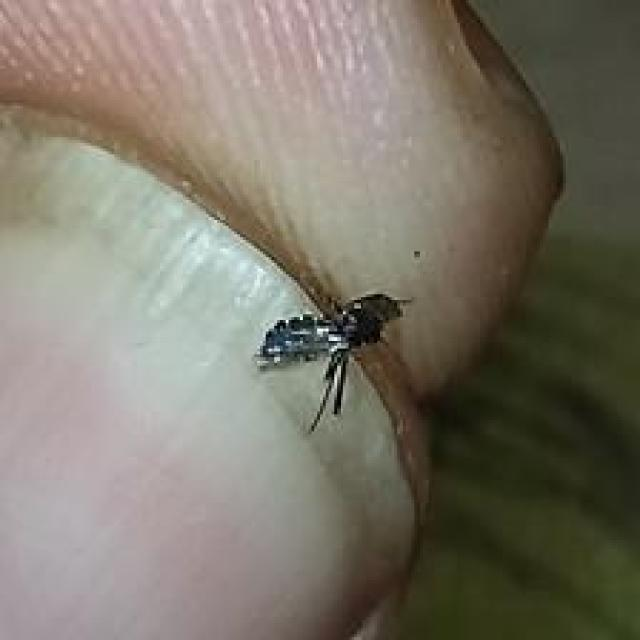Aedes albopictus: (253, 292, 413, 434)
